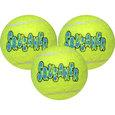tennis ball: (58, 13, 115, 72), (1, 15, 58, 73), (32, 44, 88, 99)
